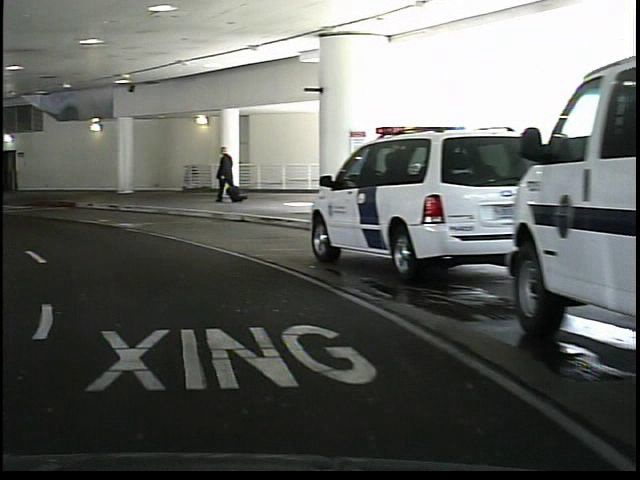person: (210, 143, 235, 203)
